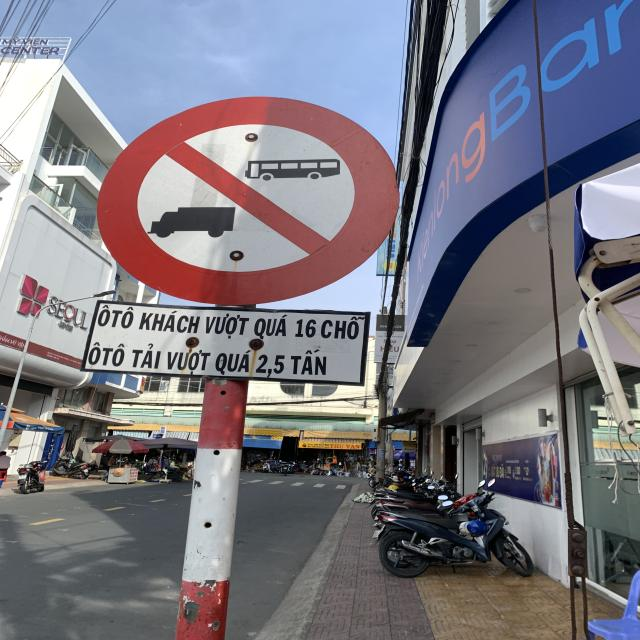Cam_XeTai_XeKhach: (97, 95, 400, 306)
